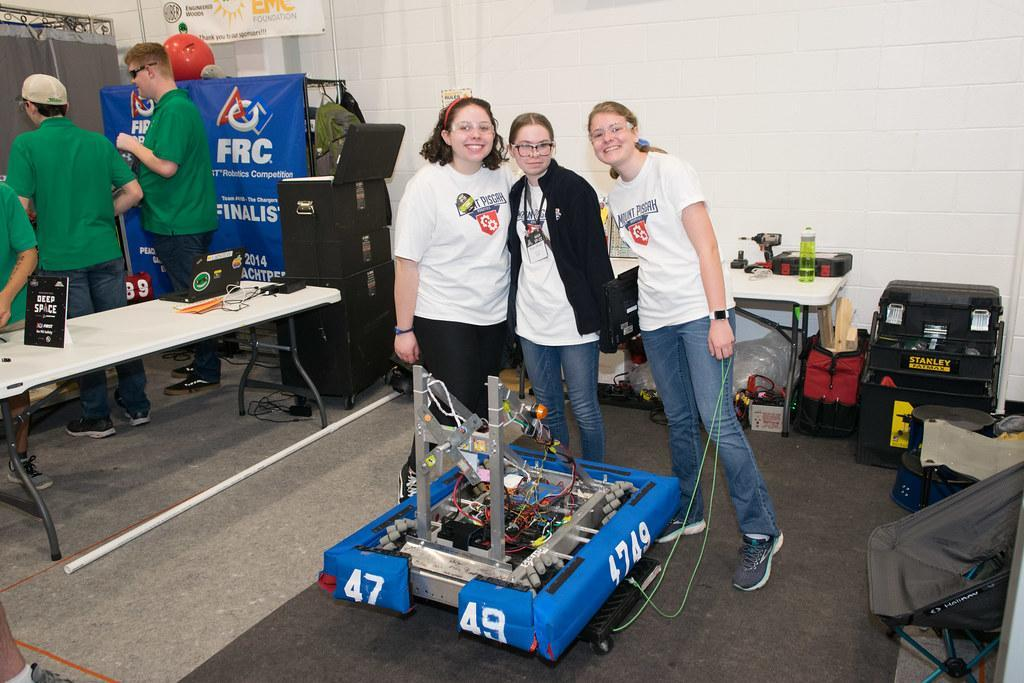robot: (313, 351, 687, 673)
